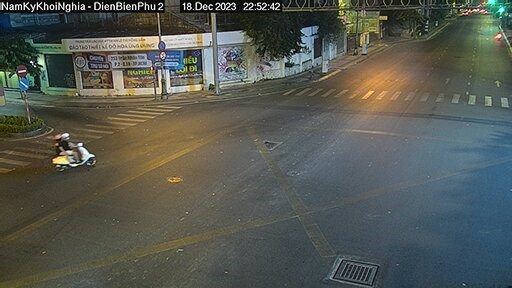motorbike: (50, 129, 98, 174)
